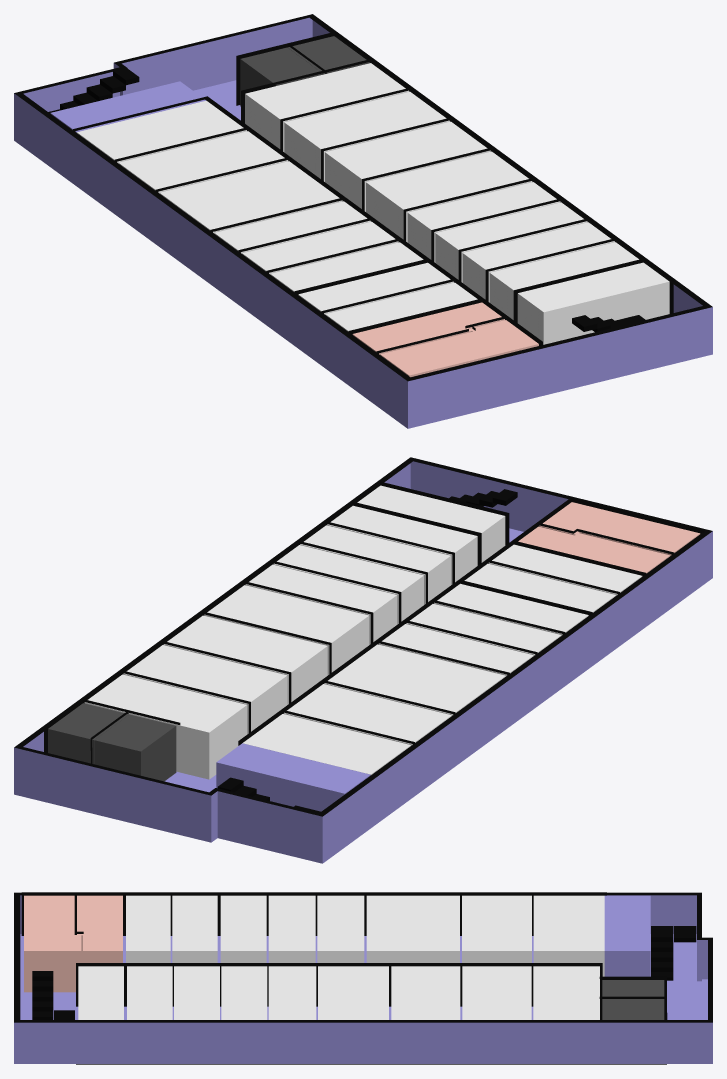
3 renders of one model, top to bottom at view 1: azimuth 30°, elevation 25°; view 2: azimuth 150°, elevation 25°; view 3: azimuth 270°, elevation 25°, orthographic. The views are drawn at different scales.
Parts seen in each view (by area): view 1: object, room_3_3_10, room_3_3_3, room_3_3_9, room_3_3_8, room_3_3_7, room_3_3_6, room_3_3_5, room_3_3_4, トイレ_3_3_1, room_3_3_14, room_3_3_16 (+24 smaller); view 2: object, room_3_3_6, エレベーター_3_3_1, room_3_3_3, room_3_3_9, room_3_3_7, room_3_3_8, room_3_3_5, room_3_3_4, room_3_3_14, room_3_3_16, room_3_3_17 (+24 smaller); view 3: object, room_3_3_3, room_3_3_5, トイレ_3_3_1, room_3_3_4, room_3_3_9, room_3_3_7, room_3_3_8, room_3_3_6, room_3_3_1, room_3_3_2, room_3_3_13 (+29 smaller).
Boxes of the visible parts, box(x1,y1,x2,y2) form: object: box(14, 14, 712, 428); room_3_3_10: box(517, 262, 669, 344); room_3_3_3: box(159, 161, 342, 233); room_3_3_9: box(366, 151, 532, 242); room_3_3_8: box(325, 121, 490, 211); room_3_3_7: box(284, 92, 449, 181); room_3_3_6: box(245, 63, 409, 151); room_3_3_5: box(77, 100, 246, 163); room_3_3_4: box(118, 131, 288, 193); トイレ_3_3_1: box(380, 320, 538, 377); room_3_3_14: box(407, 182, 560, 262); room_3_3_16: box(462, 222, 614, 302); object: box(14, 457, 712, 863); room_3_3_6: box(84, 674, 247, 779); エレベーター_3_3_1: box(48, 703, 176, 781); room_3_3_3: box(324, 644, 505, 715); room_3_3_9: box(204, 585, 369, 675); room_3_3_7: box(123, 645, 287, 734); room_3_3_8: box(163, 615, 327, 704); room_3_3_5: box(242, 714, 410, 774); room_3_3_4: box(283, 684, 451, 745); room_3_3_14: box(245, 564, 397, 644); room_3_3_16: box(300, 525, 450, 604); room_3_3_17: box(327, 505, 477, 584); object: box(14, 892, 712, 1063); room_3_3_3: box(366, 895, 459, 962); room_3_3_5: box(533, 895, 604, 976); トイレ_3_3_1: box(24, 895, 81, 992); room_3_3_4: box(462, 895, 531, 962); room_3_3_9: box(318, 966, 388, 1019); room_3_3_7: box(462, 966, 531, 1019); room_3_3_8: box(391, 966, 460, 1019); room_3_3_6: box(533, 966, 599, 1019); room_3_3_1: box(268, 895, 315, 962); room_3_3_2: box(317, 895, 364, 962); room_3_3_13: box(220, 895, 266, 962).
Bounding box in the file's own units: 1.1 × 0.1854 × 2.5.
